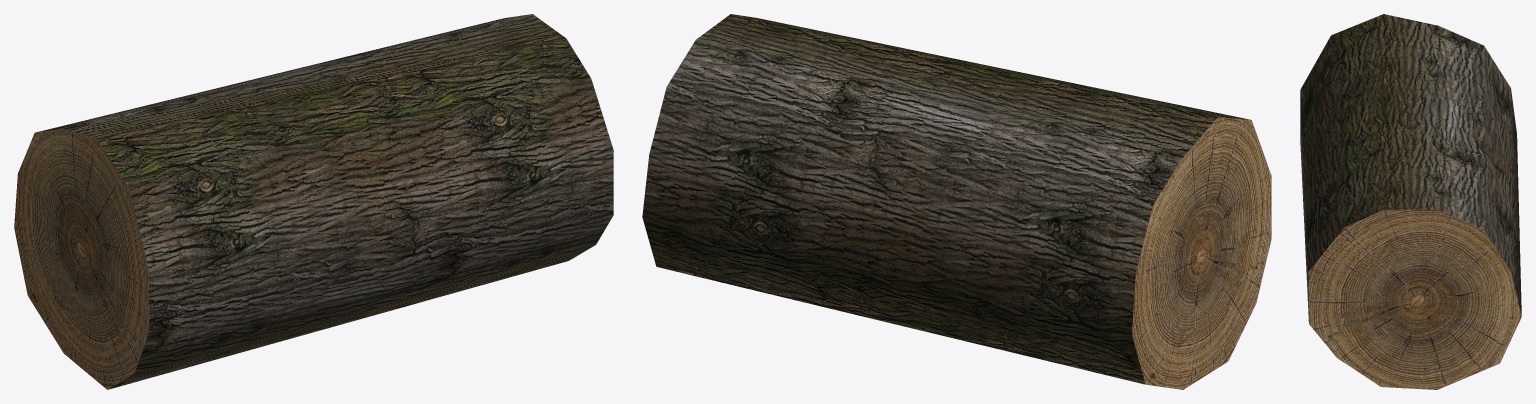
File: LOG_SEAT_2.fbx
3 views of the same model, side by side, from view 1: azimuth 30°, elevation 25°; view 2: azimuth 150°, elevation 25°; view 3: azimuth 270°, elevation 25° (orthographic). The views are drawn at different scales.
Visible parts, largest first — view 1: Cylinder.001; view 2: Cylinder.001; view 3: Cylinder.001.
Boxes of the visible parts, x1,y1,x2,y2 form: Cylinder.001: (14,14,613,389); Cylinder.001: (642,14,1271,389); Cylinder.001: (1300,14,1521,389).
Size of the model in its own units: 123 by 61.1 by 62.79.
2 materials, 2 textured.
